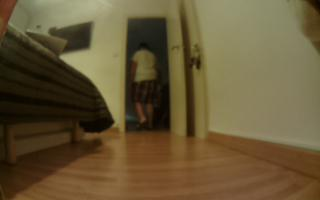person: (128, 40, 163, 133)
